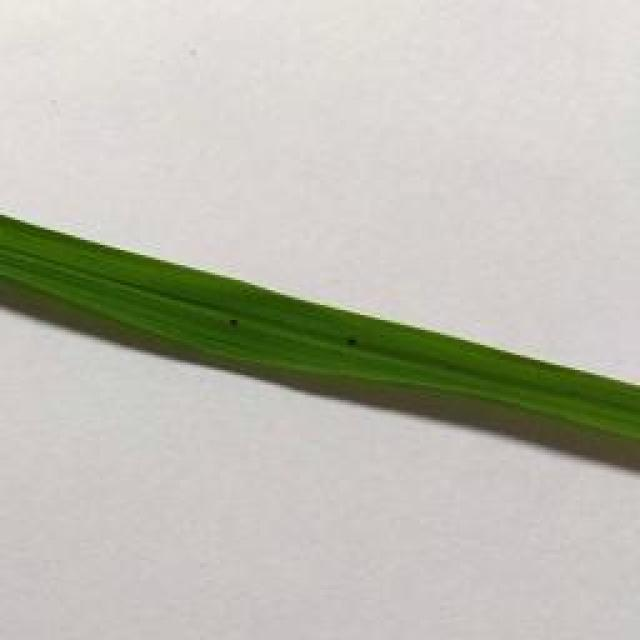Brown_Spot: (207, 308, 258, 350)
